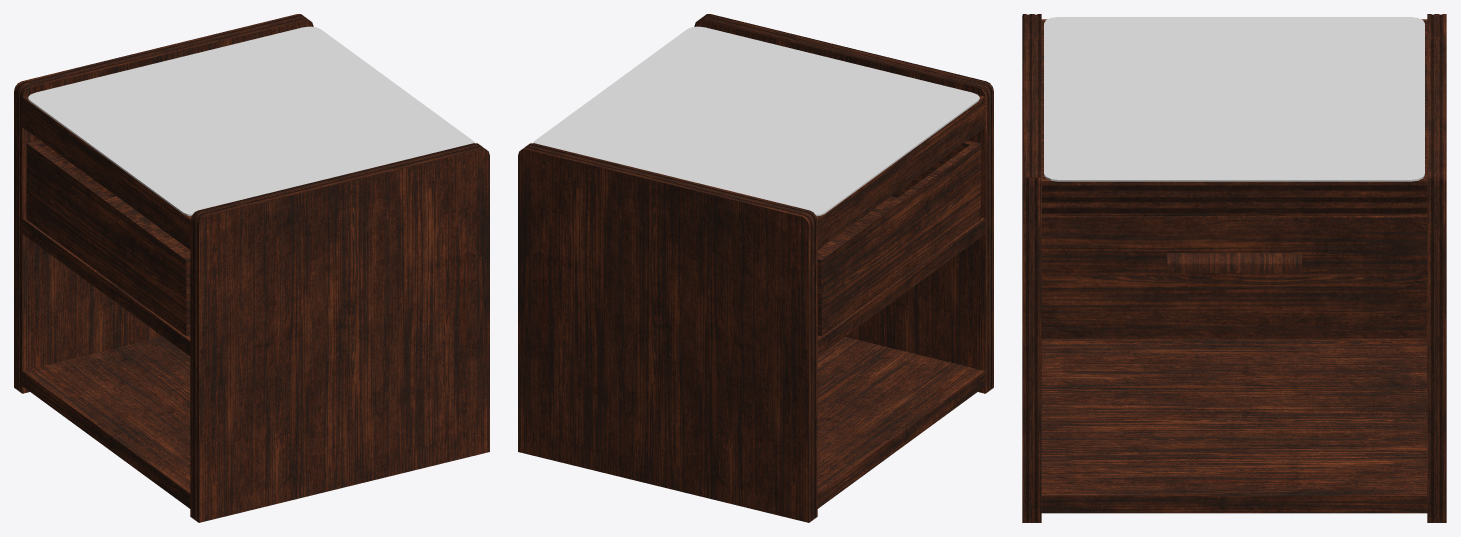
File: Nightstand.fbx
3 renders of one model, left to right at view 1: azimuth 30°, elevation 25°; view 2: azimuth 150°, elevation 25°; view 3: azimuth 270°, elevation 25°, orthographic. The views are drawn at different scales.
Parts seen in each view (by area): view 1: Nightstand, Glass, Drawer; view 2: Nightstand, Glass, Drawer; view 3: Nightstand, Glass, Drawer.
Part boxes in pixels (x1=…): Nightstand: x1=14, y1=14, x2=489, y2=522; Glass: x1=28, y1=26, x2=474, y2=216; Drawer: x1=26, y1=140, x2=190, y2=336; Nightstand: x1=518, y1=14, x2=993, y2=522; Glass: x1=533, y1=26, x2=979, y2=216; Drawer: x1=817, y1=140, x2=981, y2=336; Nightstand: x1=1022, y1=14, x2=1446, y2=522; Glass: x1=1044, y1=17, x2=1424, y2=181; Drawer: x1=1041, y1=216, x2=1427, y2=330.
Size of the model in its own units: 104 by 100 by 110.
